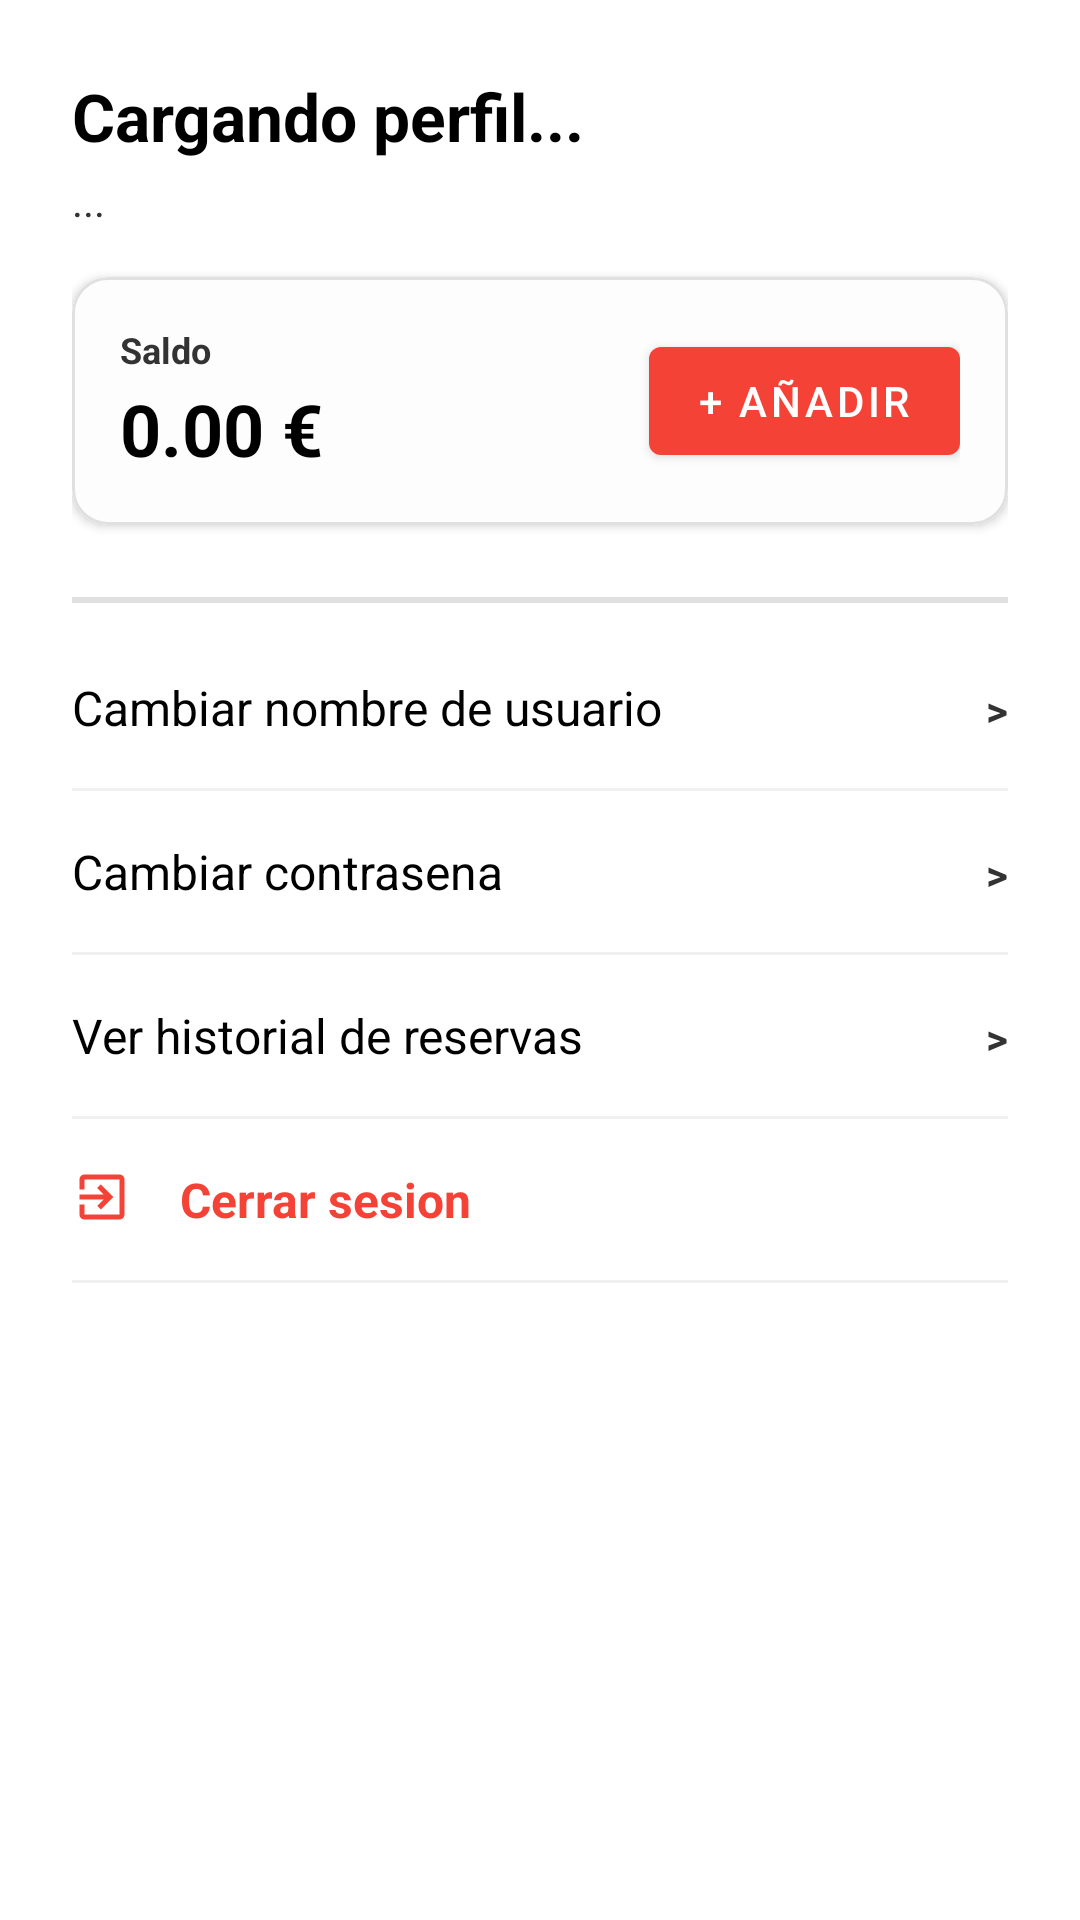

Screen size 1080×1920. Icon name, then its box in pixels as (x1, y1, x2, y2):
salir: (79, 1174, 125, 1220)
